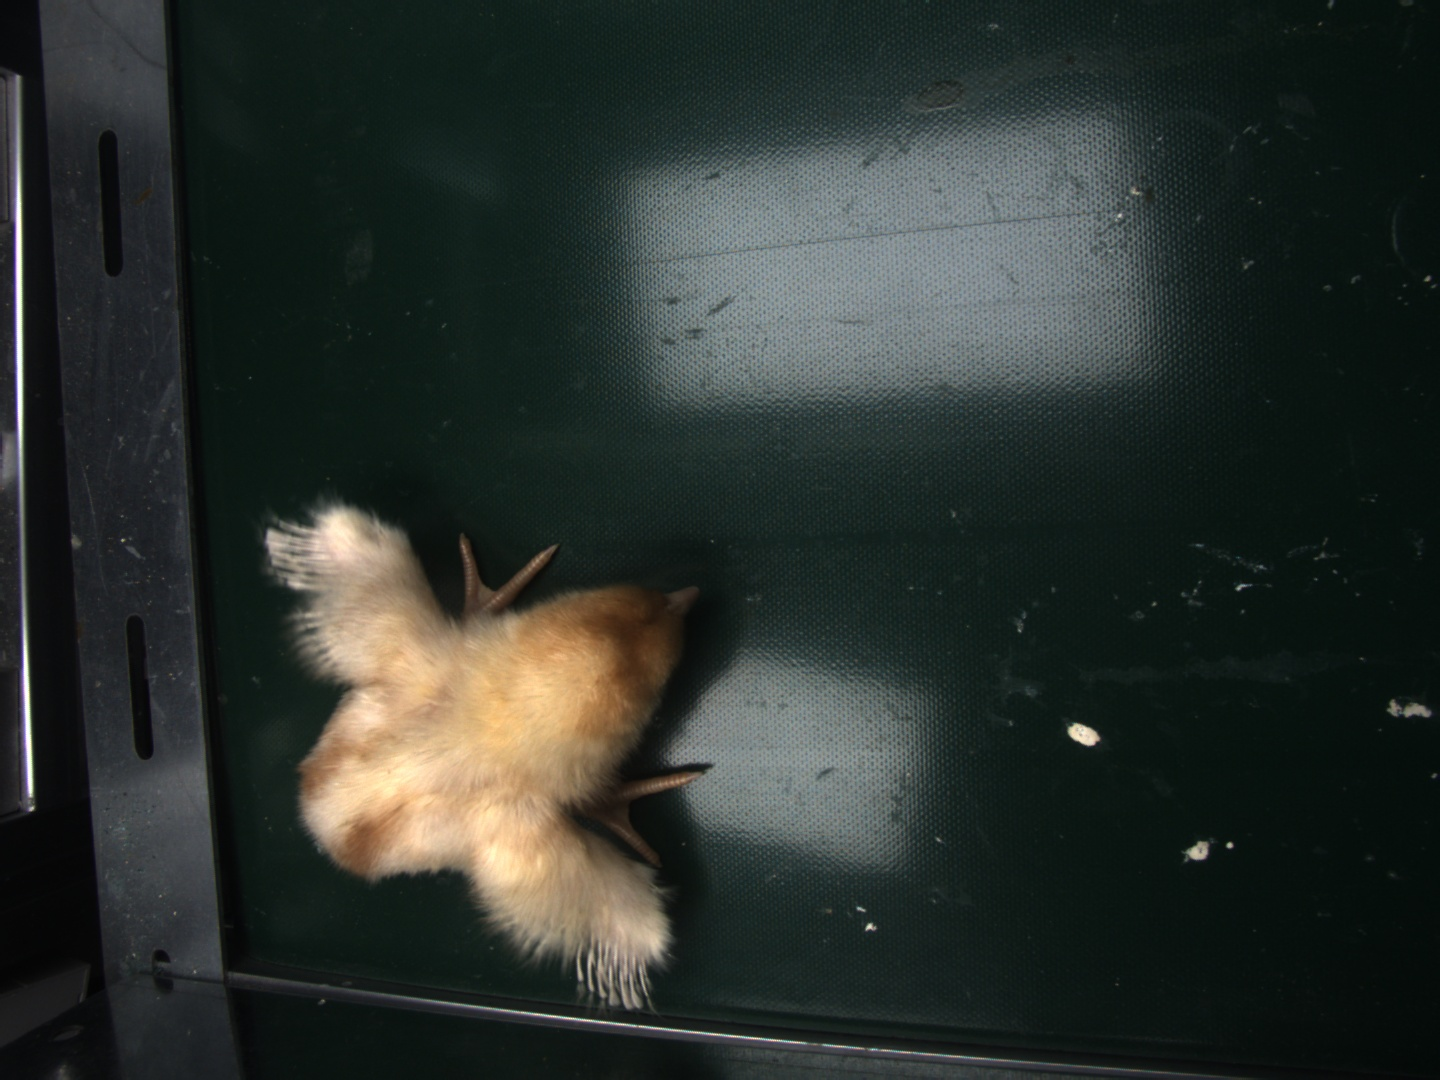female: (579, 937, 652, 1002)
